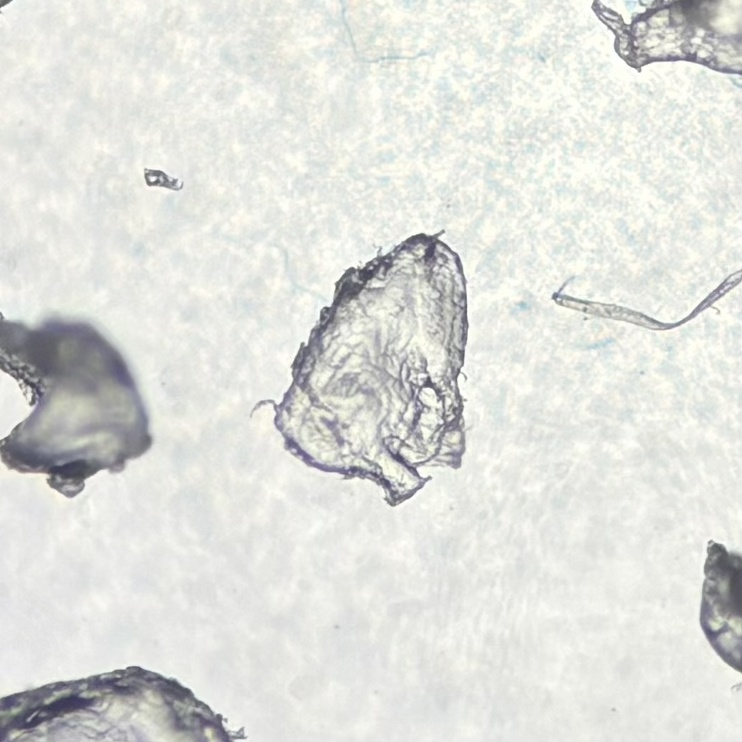microplastic: (247, 232, 467, 506), (1, 310, 154, 498), (1, 667, 245, 742), (589, 1, 742, 80), (552, 271, 742, 332), (698, 541, 742, 671), (143, 165, 183, 191)
